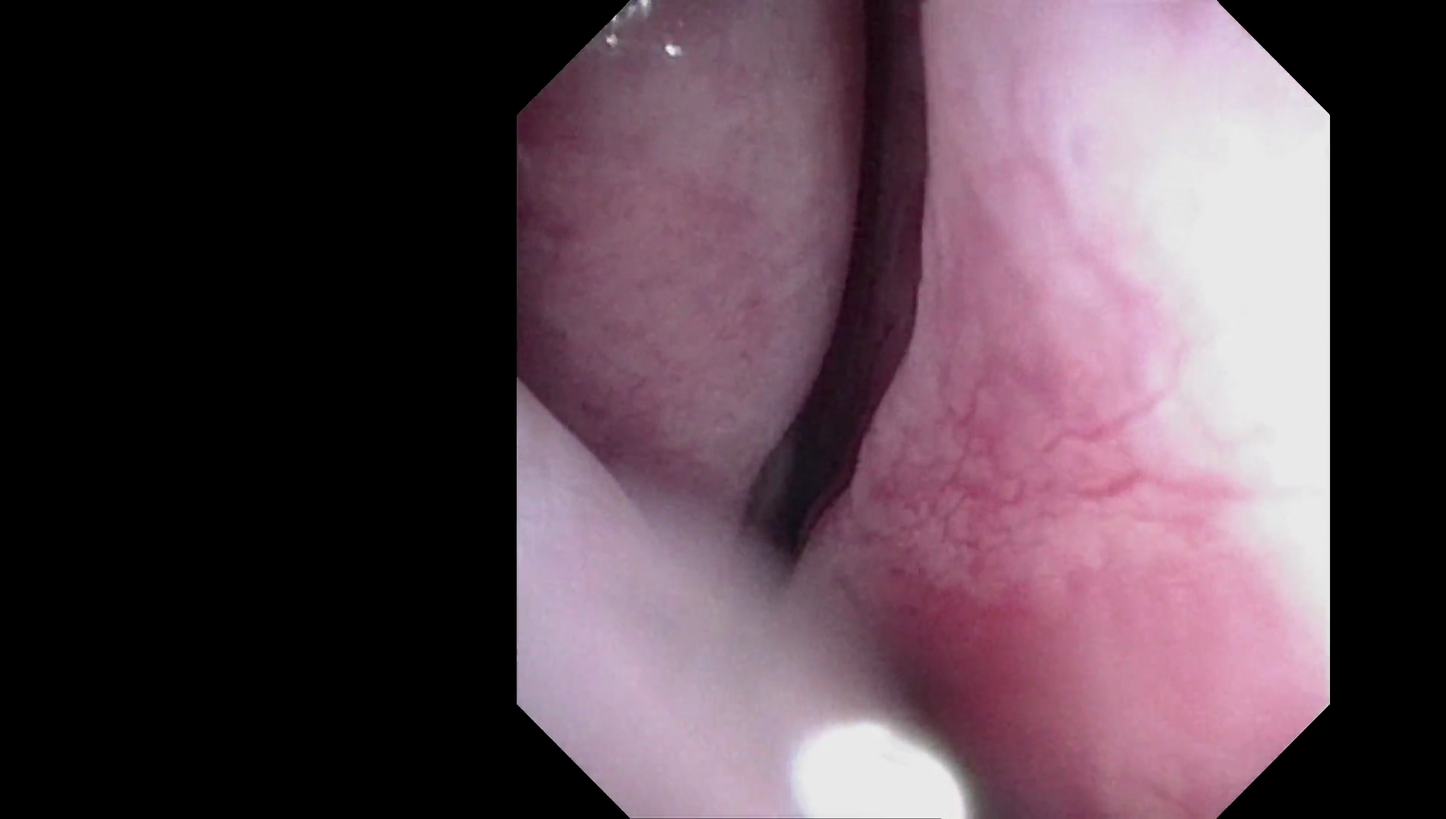close_wall: (953, 117, 1317, 705)
next: (733, 281, 926, 604), (833, 0, 925, 313)
